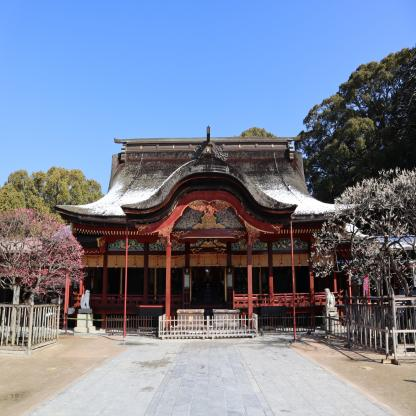Ume: (307, 164, 416, 301), (0, 205, 86, 296)
